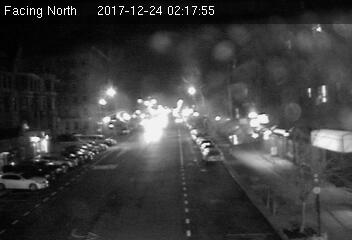car: (201, 146, 224, 165)
